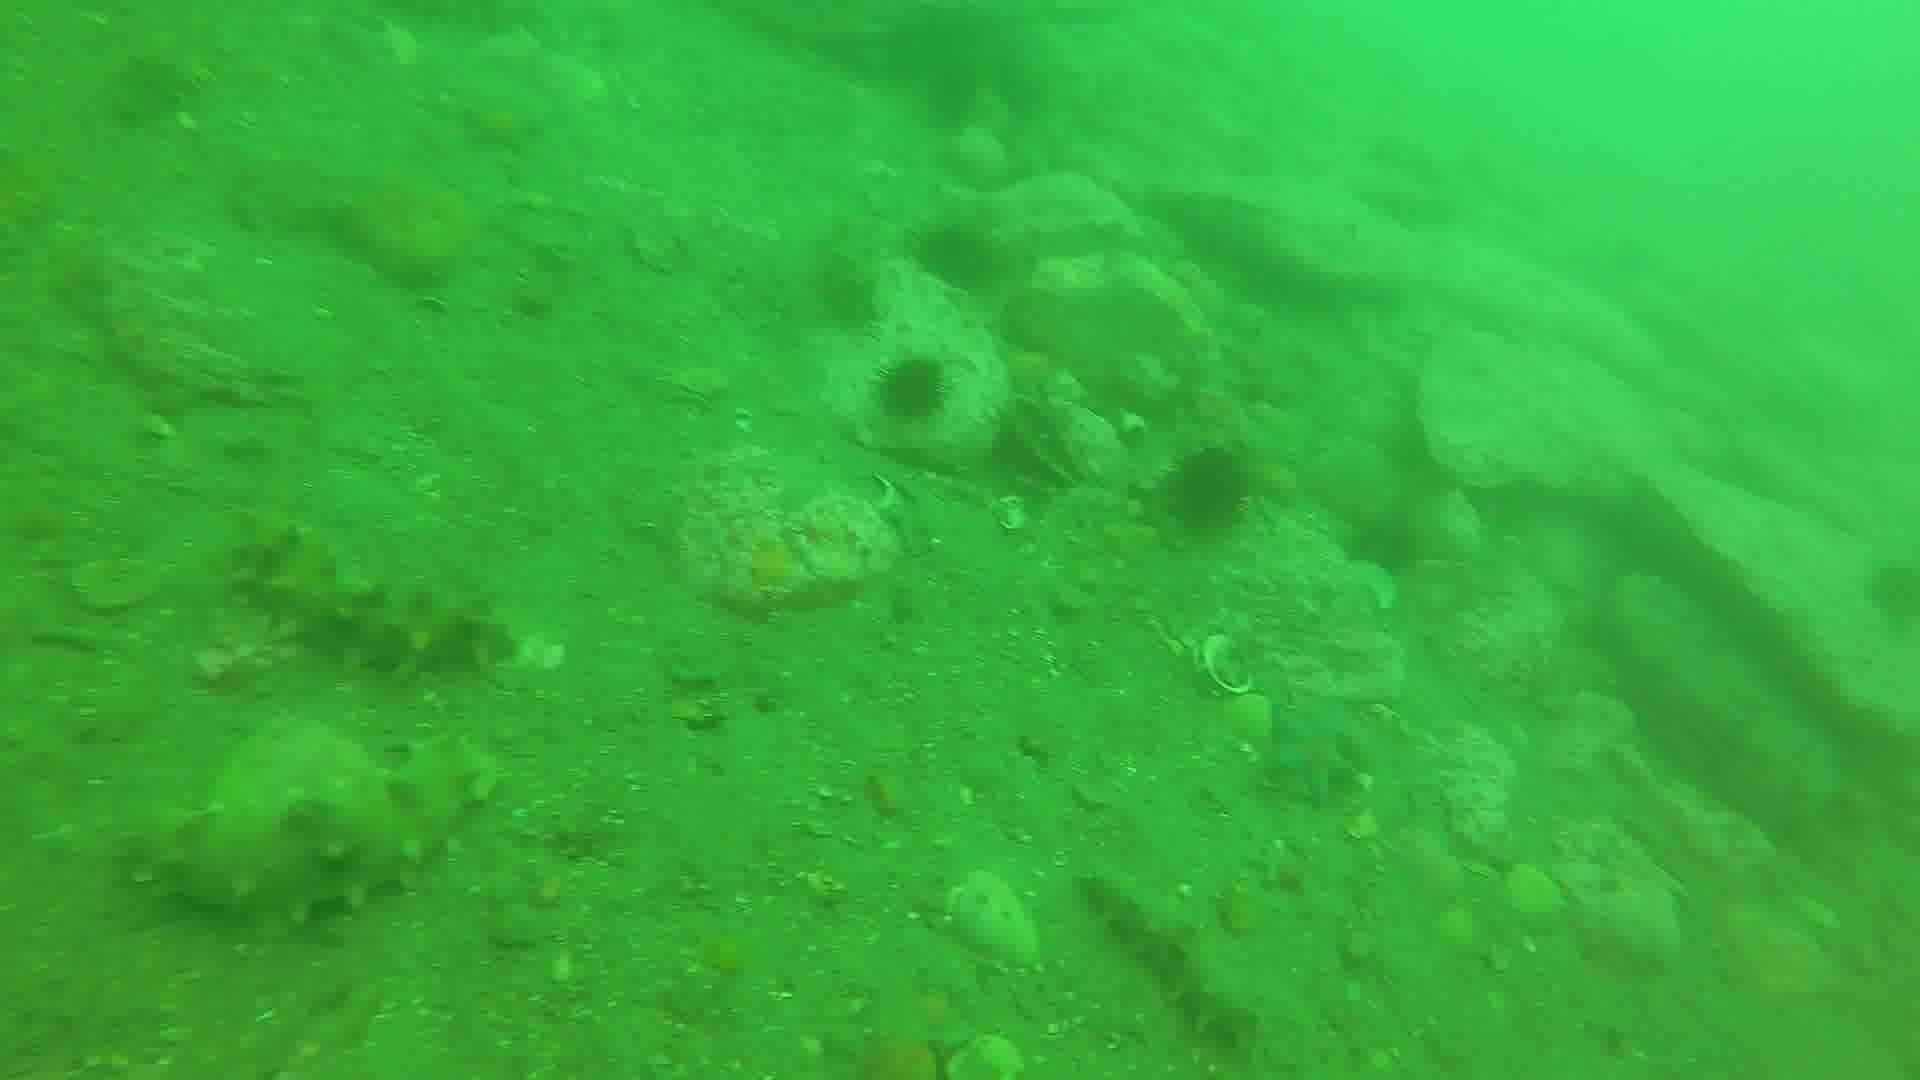echinus: (1158, 442, 1259, 541), (907, 218, 1005, 298), (866, 349, 956, 431), (807, 251, 887, 336), (1338, 509, 1429, 582), (1861, 553, 1920, 633)
holothurian: (125, 727, 501, 934), (228, 520, 524, 683), (1076, 862, 1267, 1054)
starfish: (1253, 692, 1367, 810), (452, 84, 551, 157)
